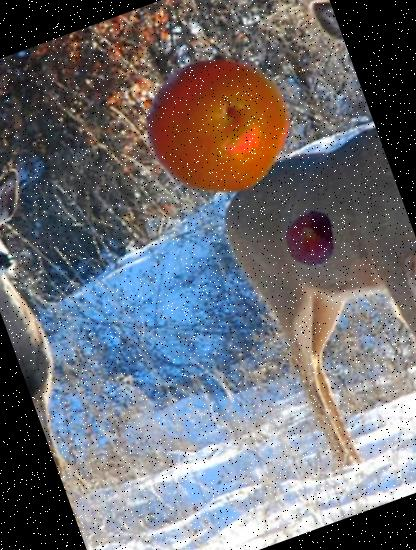Orange: (182, 48, 269, 136)
Salak: (274, 204, 344, 274)
Tangelo: (127, 32, 310, 214)
